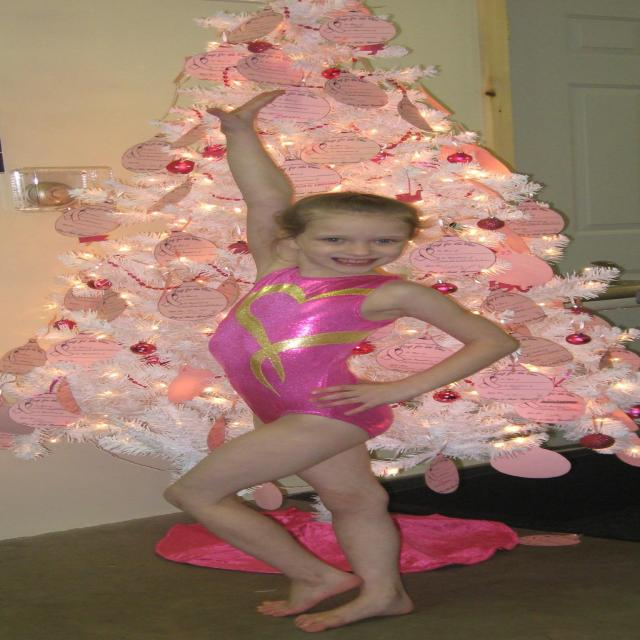nomask: (298, 204, 408, 269)
